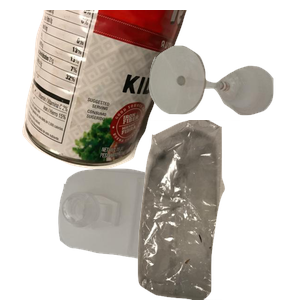glass: (147, 43, 300, 151)
metal: (20, 10, 199, 172)
plastic: (56, 166, 241, 300)
trash: (114, 120, 300, 300)
